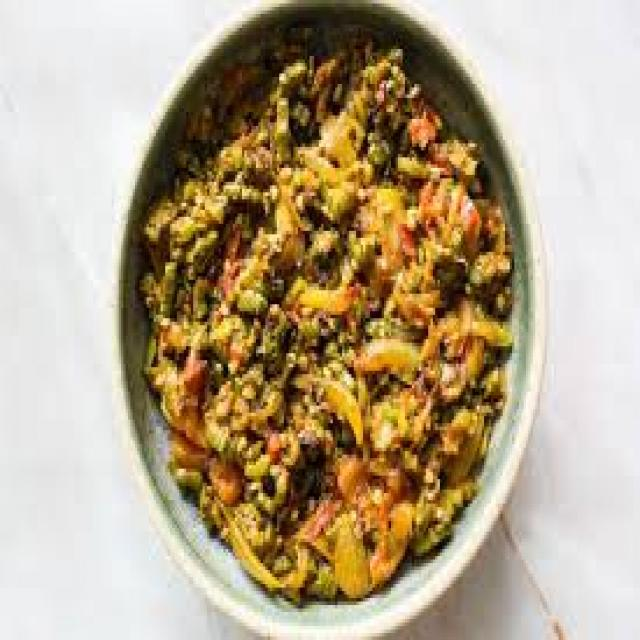Bhindi Masala: (131, 20, 514, 605)
